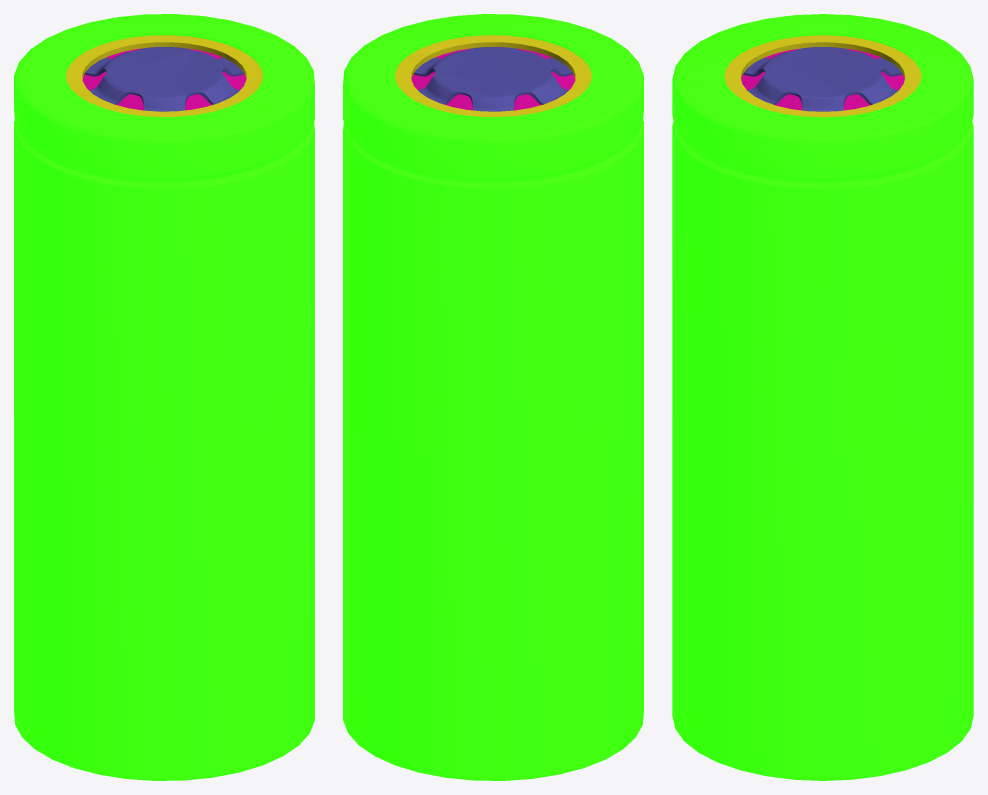
File: battery.gltf
3 renders of one model, left to right at view 1: azimuth 30°, elevation 25°; view 2: azimuth 150°, elevation 25°; view 3: azimuth 270°, elevation 25°, orthographic.
Parts seen in each view (by area): view 1: Battery_Shield_v20:_Component2:1:_Placa:1:_Body2.001; view 2: Battery_Shield_v20:_Component2:1:_Placa:1:_Body2.001; view 3: Battery_Shield_v20:_Component2:1:_Placa:1:_Body2.001.
Boxes of the visible parts, x1,y1,x2,y2 form: Battery_Shield_v20:_Component2:1:_Placa:1:_Body2.001: [14, 14, 314, 780]; Battery_Shield_v20:_Component2:1:_Placa:1:_Body2.001: [343, 14, 643, 780]; Battery_Shield_v20:_Component2:1:_Placa:1:_Body2.001: [672, 14, 973, 780].
Size of the model in its own units: 0.1647 by 0.39 by 0.1647.
